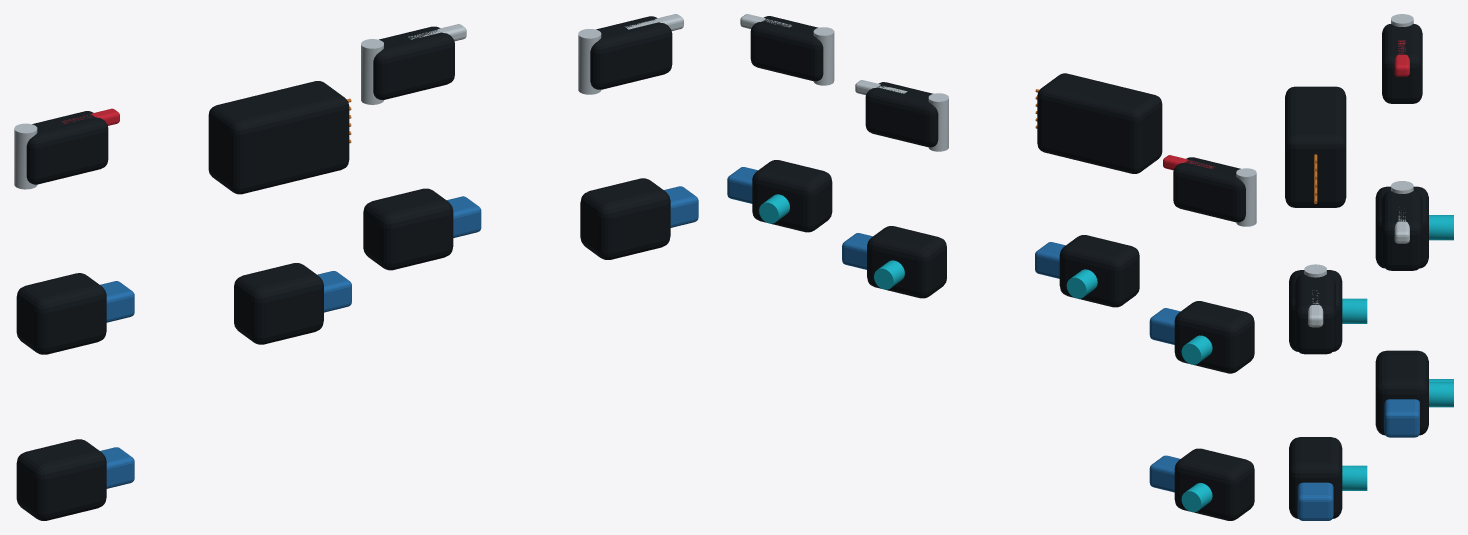
File: generic_access.glb
3 views of the same model, side by side, from view 1: azimuth 30°, elevation 25°; view 2: azimuth 150°, elevation 25°; view 3: azimuth 270°, elevation 25° (orthographic). The views are drawn at different scales.
Visible parts, largest first — view 1: system_mesh__immobilizer_module__housing, system_mesh__ultrasonic_security_sensor__sealed_body, system_mesh__hood_sensor__sealed_body, system_mesh__motion_sensor__sealed_body, system_mesh__tilt_sensor__sealed_body, system_mesh__trunk_sensor__sealed_body, system_mesh__ignition_switch__body, system_mesh__central_lock_actuators__body, system_mesh__trunk_actuator__body, system_mesh__ignition_switch__pivot, system_mesh__hood_sensor__connector, system_mesh__motion_sensor__connector (+5 smaller); view 2: system_mesh__immobilizer_module__housing, system_mesh__trunk_sensor__sealed_body, system_mesh__hood_sensor__sealed_body, system_mesh__tilt_sensor__sealed_body, system_mesh__motion_sensor__sealed_body, system_mesh__ultrasonic_security_sensor__sealed_body, system_mesh__trunk_actuator__body, system_mesh__ignition_switch__body, system_mesh__central_lock_actuators__body, system_mesh__trunk_actuator__pivot, system_mesh__tilt_sensor__connector, system_mesh__motion_sensor__connector (+10 smaller); view 3: system_mesh__immobilizer_module__housing, system_mesh__ultrasonic_security_sensor__sealed_body, system_mesh__tilt_sensor__sealed_body, system_mesh__trunk_actuator__body, system_mesh__central_lock_actuators__body, system_mesh__ignition_switch__body, system_mesh__tilt_sensor__connector, system_mesh__ultrasonic_security_sensor__connector, system_mesh__hood_sensor__sealed_body, system_mesh__trunk_sensor__sealed_body, system_mesh__trunk_sensor__sensing_element, system_mesh__tilt_sensor__sensing_element (+9 smaller).
Boxes of the visible parts, x1=… form: system_mesh__immobilizer_module__housing: x1=208, y1=81, x2=349, y2=194; system_mesh__ultrasonic_security_sensor__sealed_body: x1=363, y1=188, x2=453, y2=270; system_mesh__hood_sensor__sealed_body: x1=16, y1=273, x2=106, y2=354; system_mesh__motion_sensor__sealed_body: x1=16, y1=439, x2=106, y2=520; system_mesh__tilt_sensor__sealed_body: x1=580, y1=178, x2=670, y2=259; system_mesh__trunk_sensor__sealed_body: x1=234, y1=263, x2=323, y2=344; system_mesh__ignition_switch__body: x1=26, y1=111, x2=108, y2=184; system_mesh__central_lock_actuators__body: x1=373, y1=26, x2=454, y2=99; system_mesh__trunk_actuator__body: x1=590, y1=16, x2=672, y2=89; system_mesh__ignition_switch__pivot: x1=14, y1=123, x2=37, y2=189; system_mesh__hood_sensor__connector: x1=100, y1=281, x2=134, y2=322; system_mesh__motion_sensor__connector: x1=100, y1=447, x2=134, y2=488; system_mesh__immobilizer_module__housing: x1=1037, y1=73, x2=1162, y2=173; system_mesh__trunk_sensor__sealed_body: x1=1059, y1=235, x2=1139, y2=307; system_mesh__hood_sensor__sealed_body: x1=1174, y1=301, x2=1254, y2=373; system_mesh__tilt_sensor__sealed_body: x1=752, y1=160, x2=832, y2=232; system_mesh__motion_sensor__sealed_body: x1=1174, y1=448, x2=1254, y2=520; system_mesh__ultrasonic_security_sensor__sealed_body: x1=867, y1=226, x2=946, y2=298; system_mesh__trunk_actuator__body: x1=750, y1=16, x2=823, y2=81; system_mesh__ignition_switch__body: x1=1173, y1=157, x2=1245, y2=222; system_mesh__central_lock_actuators__body: x1=865, y1=82, x2=938, y2=147; system_mesh__trunk_actuator__pivot: x1=813, y1=27, x2=834, y2=85; system_mesh__tilt_sensor__connector: x1=727, y1=167, x2=757, y2=203; system_mesh__motion_sensor__connector: x1=1149, y1=455, x2=1179, y2=492; system_mesh__immobilizer_module__housing: x1=1285, y1=86, x2=1346, y2=207; system_mesh__ultrasonic_security_sensor__sealed_body: x1=1375, y1=353, x2=1428, y2=435; system_mesh__tilt_sensor__sealed_body: x1=1289, y1=437, x2=1342, y2=518; system_mesh__trunk_actuator__body: x1=1295, y1=274, x2=1335, y2=354; system_mesh__central_lock_actuators__body: x1=1382, y1=190, x2=1422, y2=270; system_mesh__ignition_switch__body: x1=1382, y1=24, x2=1422, y2=103; system_mesh__tilt_sensor__connector: x1=1297, y1=482, x2=1333, y2=520; system_mesh__ultrasonic_security_sensor__connector: x1=1384, y1=399, x2=1419, y2=437; system_mesh__hood_sensor__sealed_body: x1=1375, y1=186, x2=1428, y2=268; system_mesh__trunk_sensor__sealed_body: x1=1289, y1=270, x2=1342, y2=351; system_mesh__trunk_sensor__sensing_element: x1=1342, y1=298, x2=1367, y2=323; system_mesh__tilt_sensor__sensing_element: x1=1342, y1=465, x2=1367, y2=490.
Bounding box in the file's own units: 5.65 × 3.39 × 1.32.
